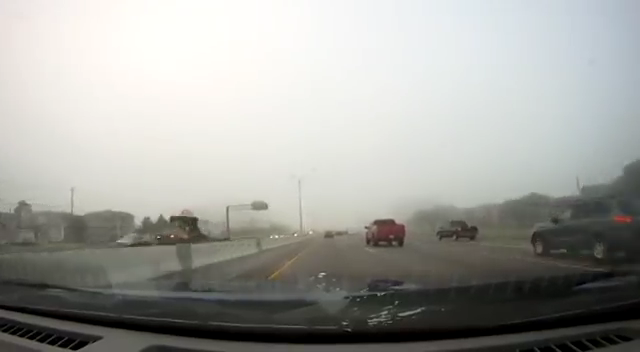bus: (156, 215, 202, 248)
car: (527, 195, 638, 262), (364, 218, 407, 248), (435, 219, 479, 241), (116, 233, 152, 247), (324, 229, 335, 239)
